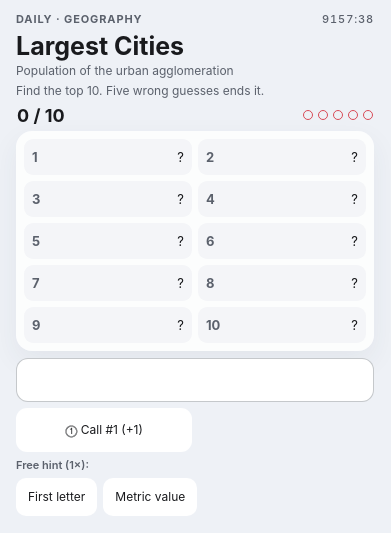
it: lets Hints On players choose and see either reveal type
Expected: the button "First letter" is shown, [16, 478, 97, 516]
Click the button "Metric value" at (150, 496), box [103, 478, 197, 516]
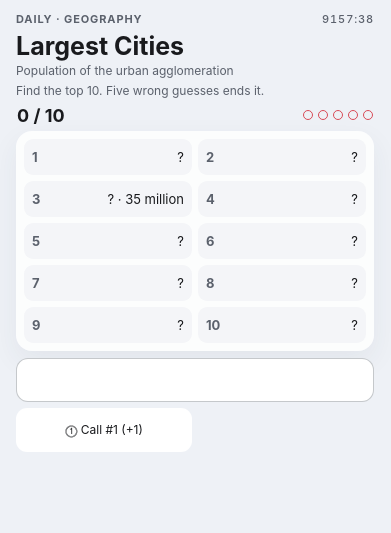
Expected: the text "? · 35 million" is shown, [107, 190, 184, 206]
